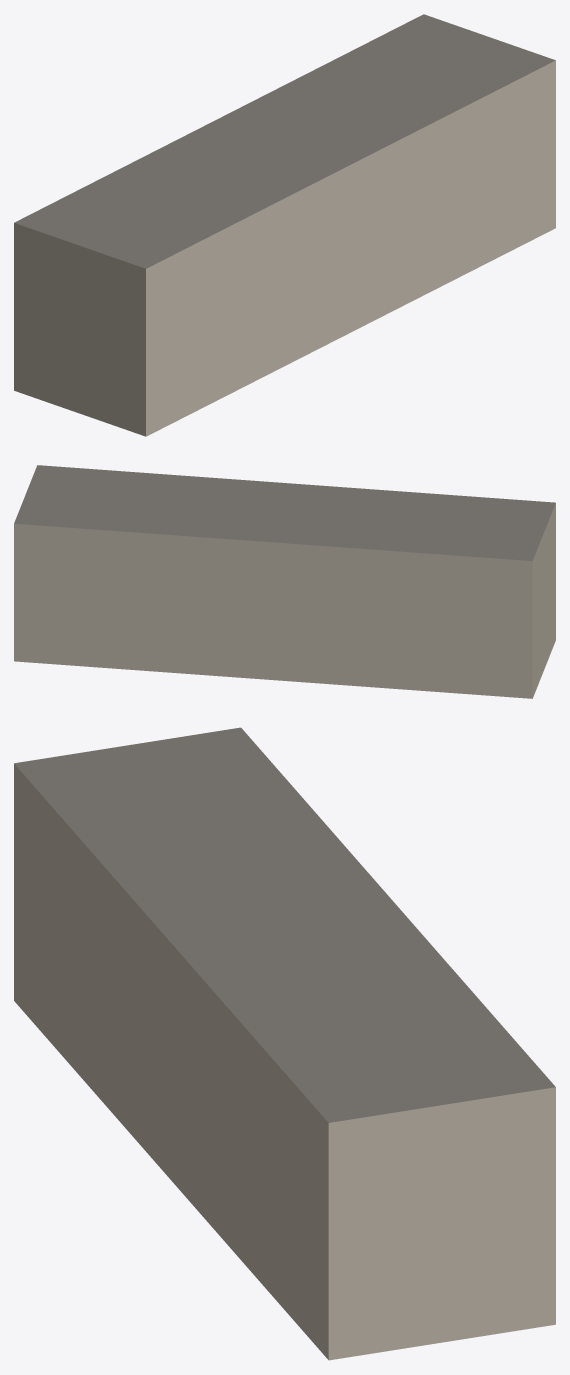
3 views of the same model, one above another, from view 1: azimuth 30°, elevation 25°; view 2: azimuth 150°, elevation 25°; view 3: azimuth 270°, elevation 25° (orthographic). The views are drawn at different scales.
Parts seen in each view (by area): view 1: HP-w1287259381; view 2: HP-w1287259381; view 3: HP-w1287259381.
Part boxes in pixels (left/top/right/bottom): HP-w1287259381: left=14, top=14, right=555, bottom=436; HP-w1287259381: left=14, top=465, right=555, bottom=698; HP-w1287259381: left=14, top=727, right=555, bottom=1360.
Size of the model in its own units: 64.29 by 18 by 37.23.
